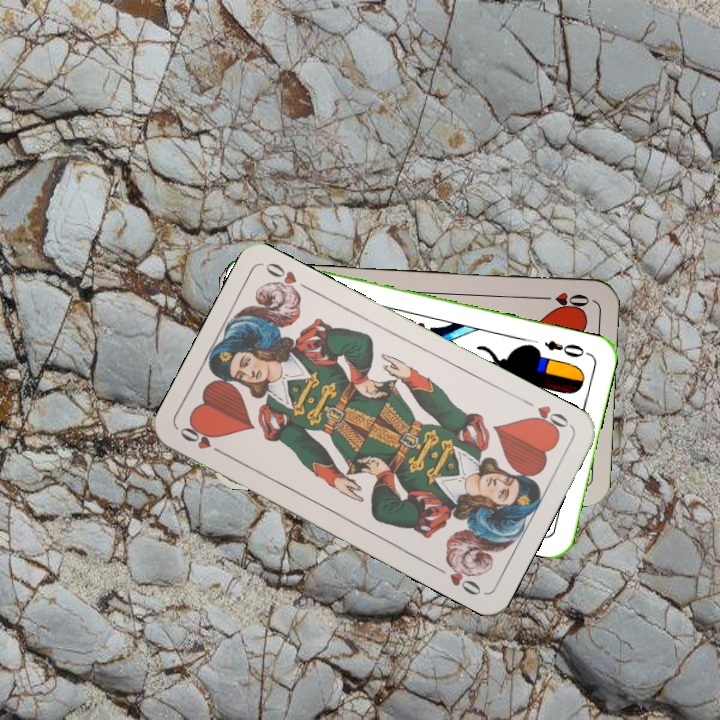EO: (540, 336, 592, 361)
HO: (519, 394, 573, 436), (175, 423, 230, 460), (534, 288, 592, 312)
